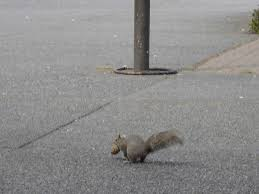squirrel: (110, 129, 185, 162)
